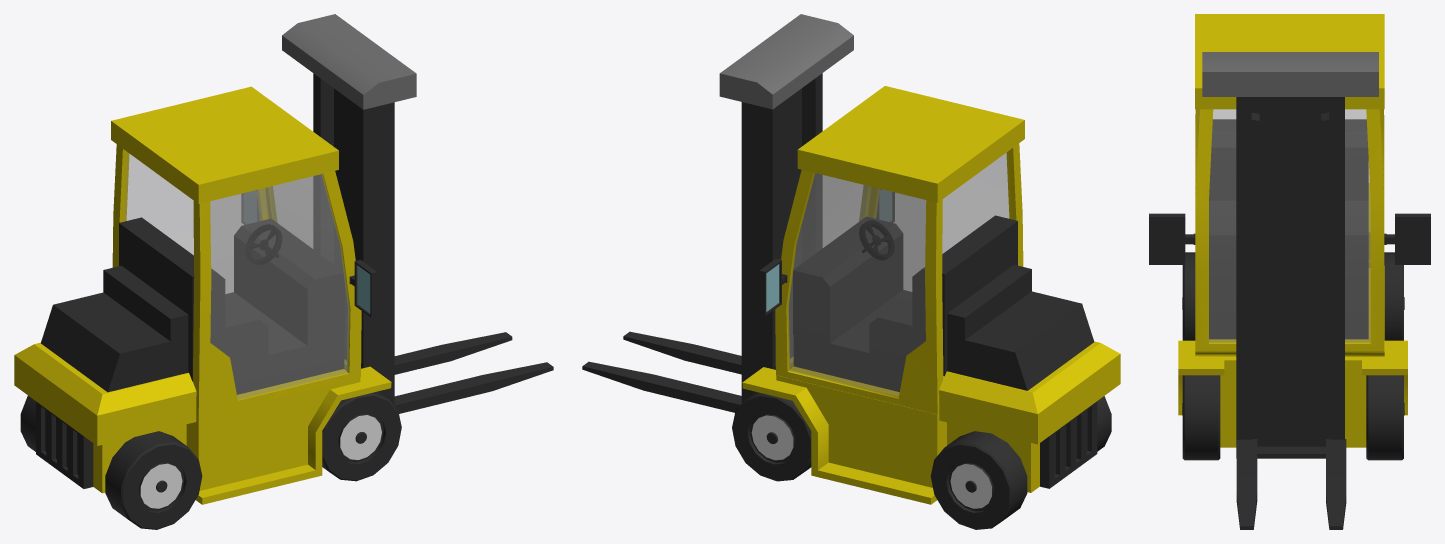
Rendered from Chariot elevateur.fbx.
3 renders of one model, left to right at view 1: azimuth 30°, elevation 25°; view 2: azimuth 150°, elevation 25°; view 3: azimuth 270°, elevation 25°, orthographic. The views are drawn at different scales.
Visible parts, largest first — view 1: chariot_elevateur; view 2: chariot_elevateur; view 3: chariot_elevateur.
Boxes of the visible parts, box(x1,y1,x2,y2) form: chariot_elevateur: box(14, 14, 553, 529); chariot_elevateur: box(582, 14, 1120, 529); chariot_elevateur: box(1149, 14, 1430, 529).
Size of the model in its own units: 4.21 by 3.27 by 2.
